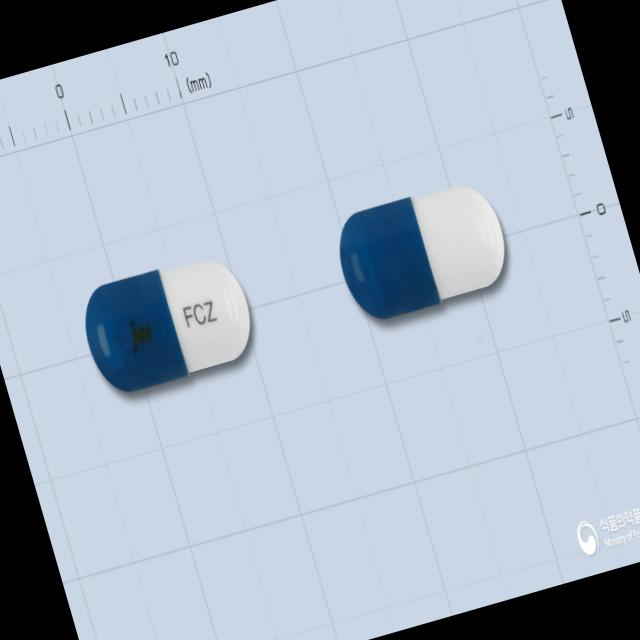Oneflu Cap: (73, 245, 264, 402)
